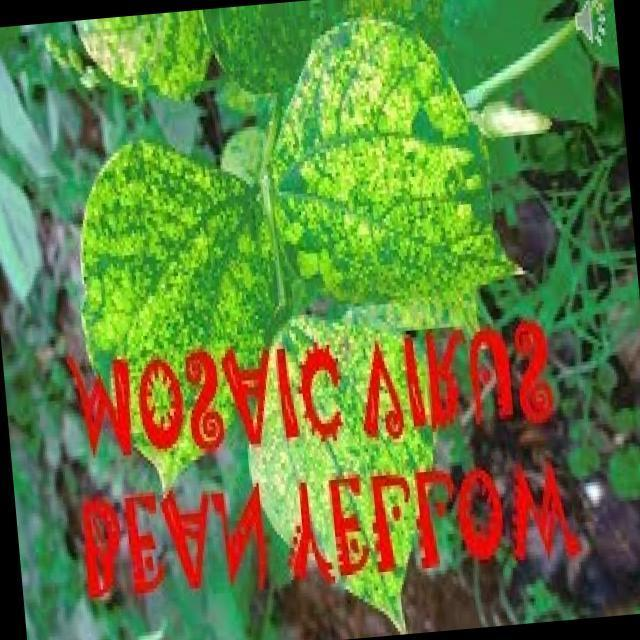Mosaic Virus: (274, 11, 520, 322)
